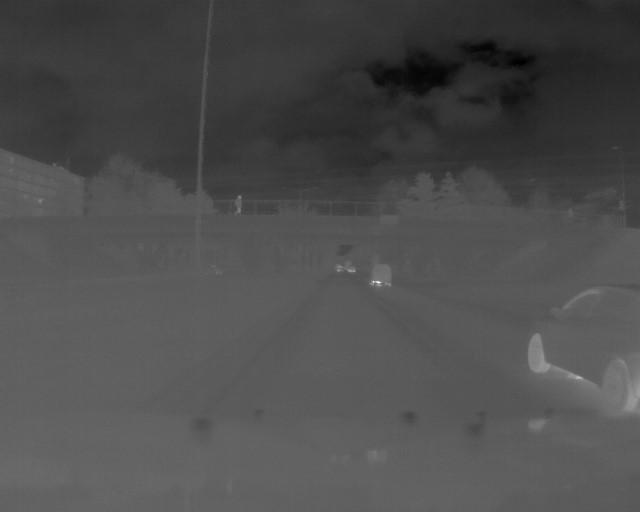car: (518, 283, 640, 409), (366, 262, 393, 290)
person: (232, 193, 245, 215)
